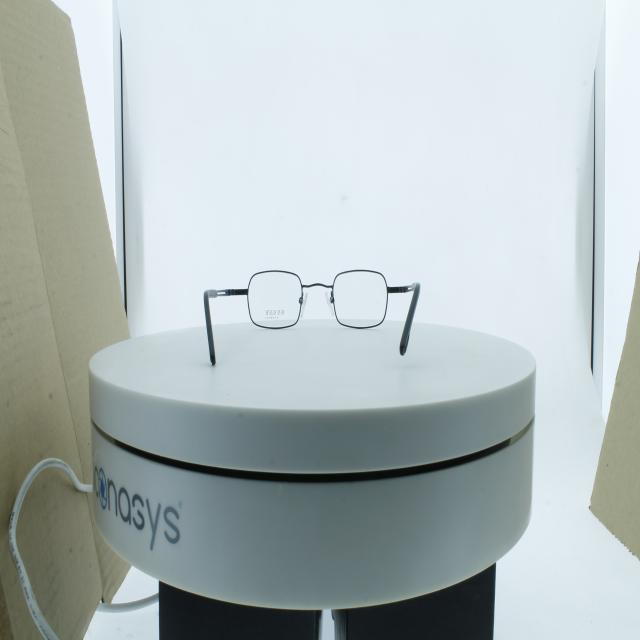Specs: (175, 250, 451, 386)
